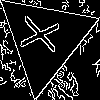X: (20, 14, 69, 56)
